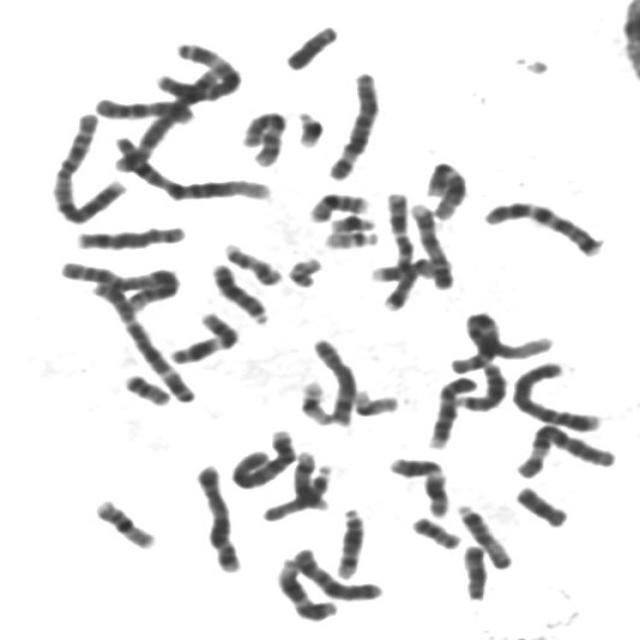A1: (107, 130, 276, 203), (442, 304, 558, 376)
A2: (44, 105, 130, 226), (53, 254, 182, 314)
A3: (85, 274, 200, 405), (148, 34, 245, 104)
B4: (506, 355, 604, 434), (223, 423, 298, 490)
B5: (106, 58, 228, 174), (188, 456, 245, 574)
C10: (87, 90, 198, 125), (234, 103, 290, 169)
C11: (161, 304, 242, 366), (381, 450, 452, 519)
C12: (268, 552, 340, 623), (418, 154, 470, 221)
C6: (320, 64, 384, 182), (508, 418, 619, 481)
C7: (476, 192, 606, 258), (376, 185, 417, 312)
C8: (304, 330, 360, 428), (70, 217, 190, 252)
C9: (402, 196, 457, 290), (420, 368, 480, 450)
D13: (205, 254, 272, 326), (450, 355, 510, 412)
D14: (328, 500, 368, 580), (288, 444, 332, 511)
D15: (254, 456, 337, 524), (451, 498, 516, 572)
E16: (88, 490, 160, 551), (302, 185, 373, 223)
E17: (216, 236, 285, 287), (364, 251, 440, 284)
E18: (508, 478, 572, 529), (454, 538, 490, 602)
F19: (291, 372, 336, 427), (346, 381, 402, 418)
F20: (404, 509, 464, 551), (116, 366, 175, 407)
G21: (289, 102, 327, 150), (323, 207, 378, 233)
G22: (316, 223, 382, 250), (280, 250, 325, 289)
X: (285, 541, 386, 603)
Y: (277, 16, 343, 72)
